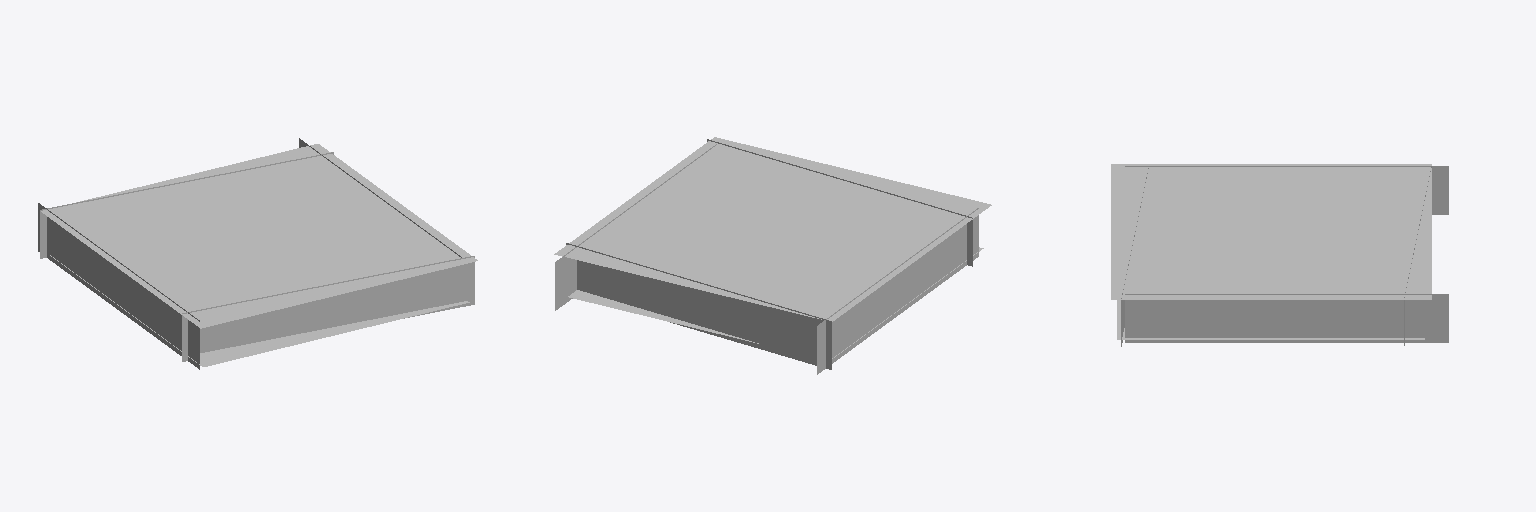
The model's file is Stadium no env.obj.
The picture shows the model from 3 angles: view 1: azimuth 30°, elevation 25°; view 2: azimuth 150°, elevation 25°; view 3: azimuth 270°, elevation 25°; orthographic projection.
Parts seen in each view (by area): view 1: Skybox_Top_Plane.001, Skybox_s4_Plane.005, Skybox_s2_Plane.003, Outside_Plane, Skybox_s3_Plane.004; view 2: Skybox_Top_Plane.001, Skybox_s3_Plane.004, Skybox_s2_Plane.003, Skybox_s1_Plane.002, Outside_Plane, Skybox_s4_Plane.005; view 3: Skybox_Top_Plane.001, Skybox_s1_Plane.002, Skybox_s2_Plane.003, Outside_Plane.
Boxes of the visible parts, box(x1,y1,x2,y2) form: Skybox_Top_Plane.001: box(41, 144, 477, 328); Skybox_s4_Plane.005: box(182, 256, 474, 361); Skybox_s2_Plane.003: box(38, 203, 199, 369); Outside_Plane: box(50, 255, 469, 366); Skybox_s3_Plane.004: box(40, 152, 333, 258); Skybox_Top_Plane.001: box(554, 137, 991, 321); Skybox_s3_Plane.004: box(566, 243, 831, 369); Skybox_s2_Plane.003: box(817, 208, 978, 374); Skybox_s1_Plane.002: box(555, 144, 716, 310); Outside_Plane: box(568, 247, 983, 358); Skybox_s4_Plane.005: box(707, 139, 972, 266); Skybox_Top_Plane.001: box(1111, 164, 1431, 299); Skybox_s1_Plane.002: box(1125, 294, 1448, 342); Skybox_s2_Plane.003: box(1125, 166, 1448, 214); Outside_Plane: box(1117, 300, 1424, 339).
Bounding box in the file's own units: 754 × 127 × 790.